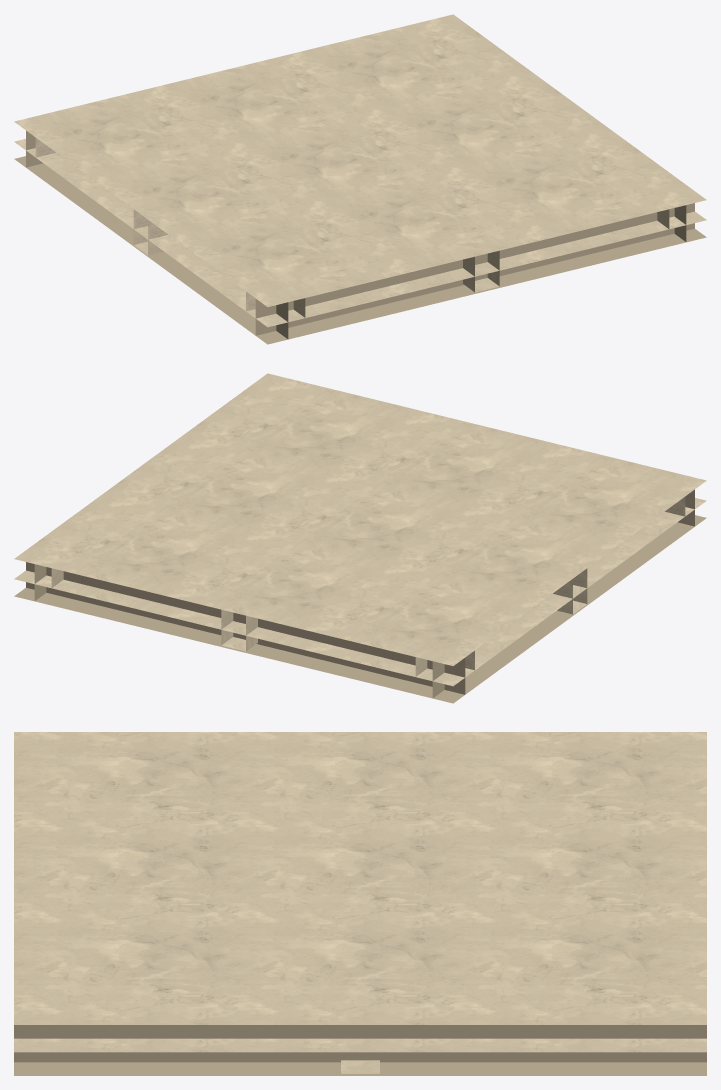
The model's file is coffer_bay.glb.
3 views of the same model, one above another, from view 1: azimuth 30°, elevation 25°; view 2: azimuth 150°, elevation 25°; view 3: azimuth 270°, elevation 25° (orthographic). The views are drawn at different scales.
Visible parts, largest first — view 1: coffer_bay; view 2: coffer_bay; view 3: coffer_bay.
Boxes of the visible parts, <box> form: coffer_bay: <box>14,14,706,344</box>; coffer_bay: <box>14,373,706,703</box>; coffer_bay: <box>14,732,706,1075</box>.
Size of the model in its own units: 6.4 by 0.52 by 6.4.
2 materials, 1 textured.
